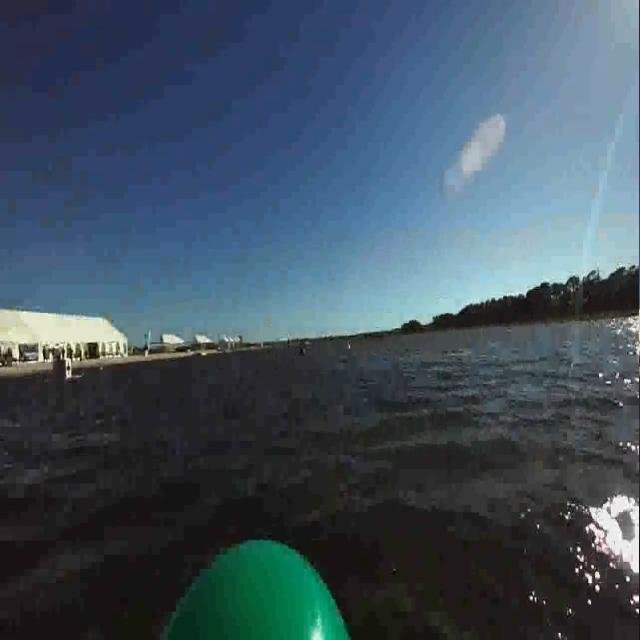green-buoy: (155, 532, 384, 639)
